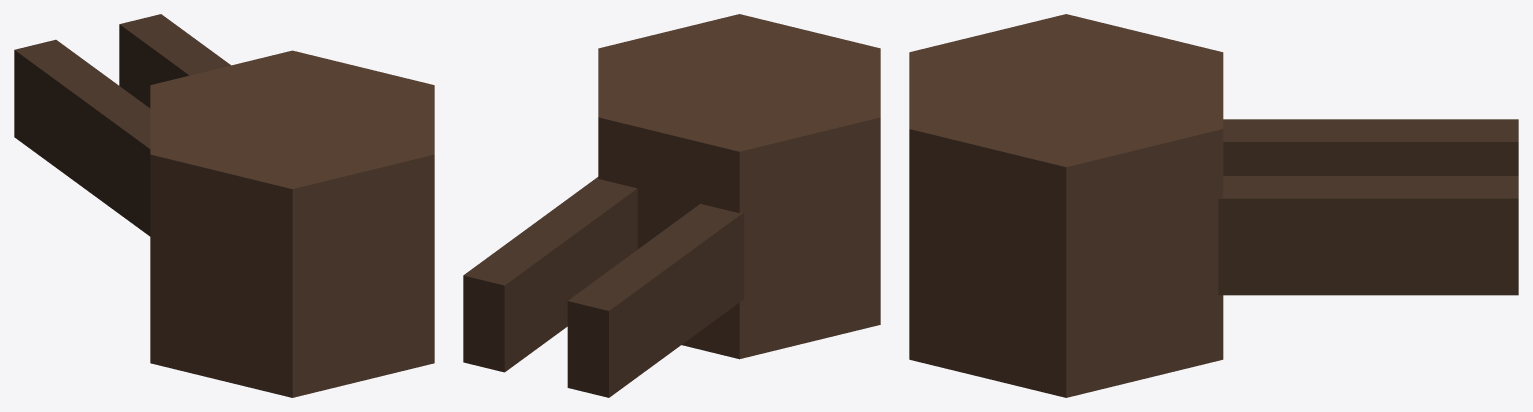
Rendered from SM_Prop_DownPipe_Connector_03.fbx.
The picture shows the model from 3 angles, left to right: view 1: azimuth 30°, elevation 25°; view 2: azimuth 150°, elevation 25°; view 3: azimuth 270°, elevation 25°; orthographic projection. The views are drawn at different scales.
Parts seen in each view (by area): view 1: SM_Prop_DownPipe_Connector_03; view 2: SM_Prop_DownPipe_Connector_03; view 3: SM_Prop_DownPipe_Connector_03.
Boxes of the visible parts, left/top/right/bottom form: SM_Prop_DownPipe_Connector_03: left=14, top=14, right=434, bottom=397; SM_Prop_DownPipe_Connector_03: left=463, top=14, right=880, bottom=397; SM_Prop_DownPipe_Connector_03: left=909, top=14, right=1518, bottom=397.
Size of the model in its own units: 27.83 by 19.53 by 46.77.
